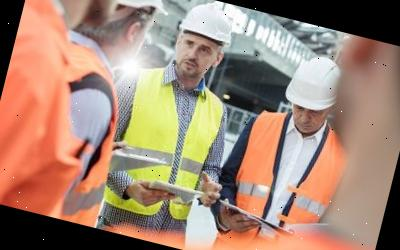helmet: (284, 50, 346, 116), (175, 0, 241, 45), (110, 0, 175, 19)
wear: (0, 14, 103, 218), (100, 69, 231, 223), (26, 48, 133, 227), (223, 116, 349, 248)
